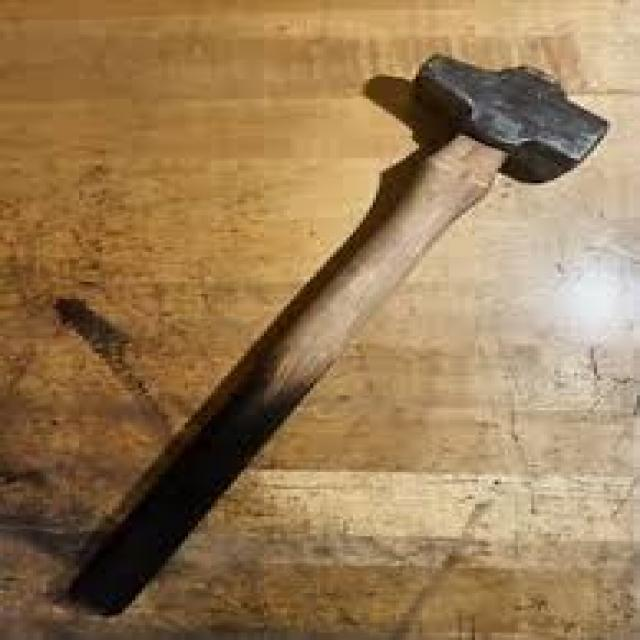hammer: (56, 44, 614, 620)
